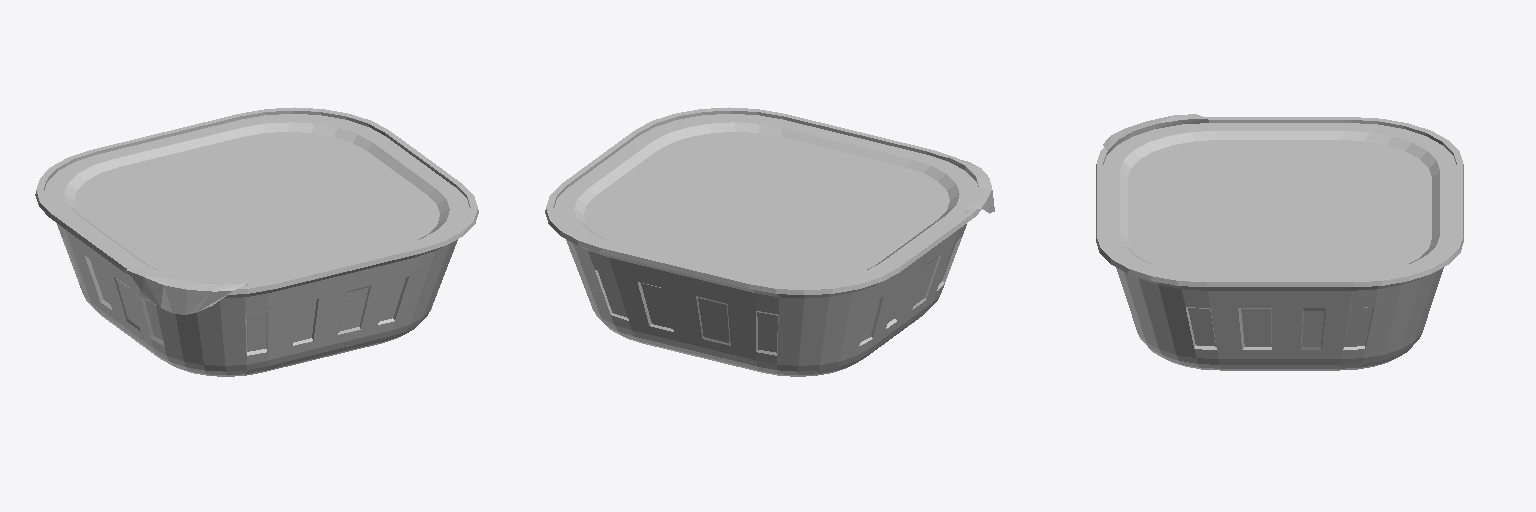
File: AlimentoHumeddo.obj
3 views of the same model, side by side, from view 1: azimuth 30°, elevation 25°; view 2: azimuth 150°, elevation 25°; view 3: azimuth 270°, elevation 25° (orthographic).
Parts seen in each view (by area): view 1: HUMEDO_CANINO_CACHORRO; view 2: HUMEDO_CANINO_CACHORRO; view 3: HUMEDO_CANINO_CACHORRO.
Part boxes in pixels (bbox=[...]): HUMEDO_CANINO_CACHORRO: bbox=[35, 107, 478, 376]; HUMEDO_CANINO_CACHORRO: bbox=[545, 107, 994, 376]; HUMEDO_CANINO_CACHORRO: bbox=[1096, 114, 1463, 370].
Bounding box in the file's own units: 0.0809 × 0.0267 × 0.0753.